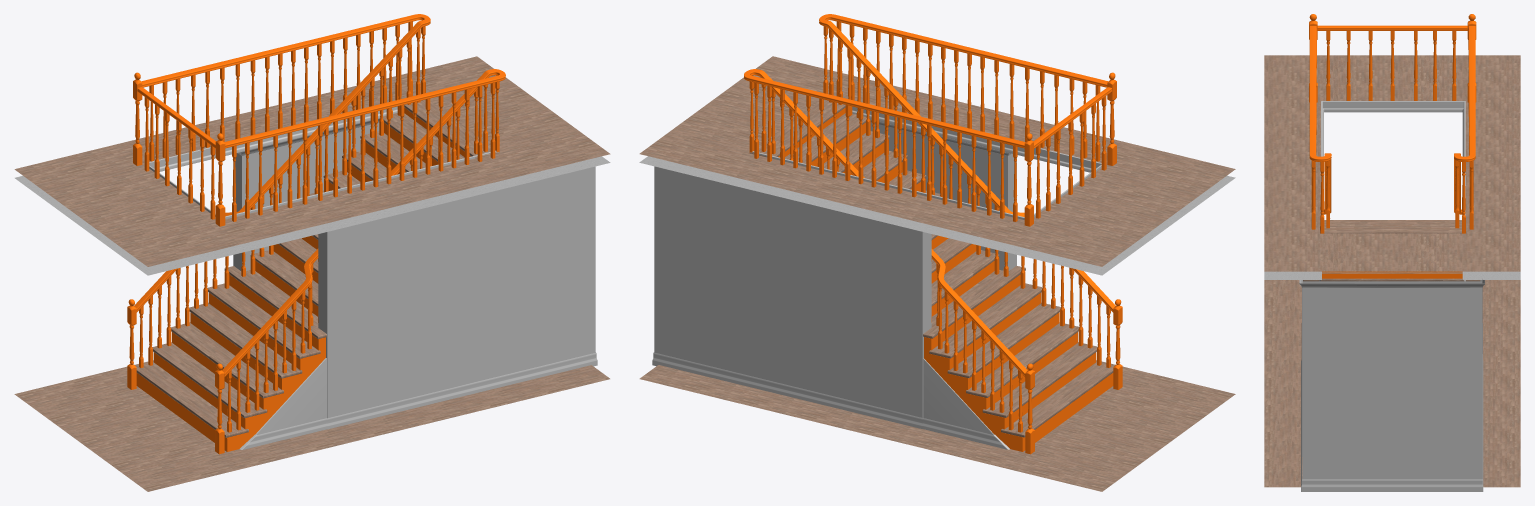
File: Stairs_D1_1-2-Attic.fbx
3 views of the same model, side by side, from view 1: azimuth 30°, elevation 25°; view 2: azimuth 150°, elevation 25°; view 3: azimuth 270°, elevation 25° (orthographic). The views are drawn at different scales.
Visible parts, largest first — view 1: Stairs_D_1-2-Attic; view 2: Stairs_D_1-2-Attic; view 3: Stairs_D_1-2-Attic.
Boxes of the visible parts, x1,y1,x2,y2 form: Stairs_D_1-2-Attic: (14, 14, 610, 491); Stairs_D_1-2-Attic: (639, 14, 1235, 491); Stairs_D_1-2-Attic: (1264, 14, 1520, 491).
Size of the model in its own units: 569 by 280 by 381.
